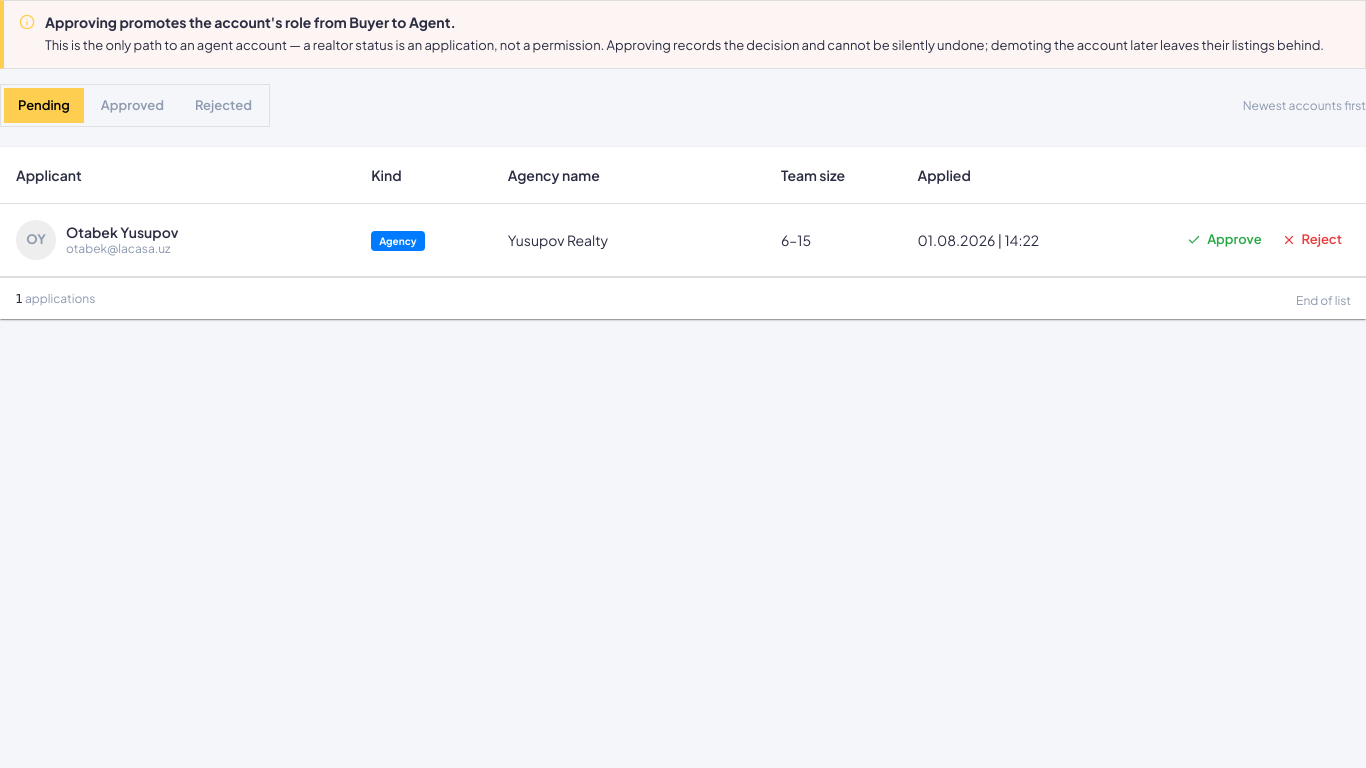
Test: ApplicationsScreen — confirming a decision › shows a failed decision inside the dialog instead of closing it
Click the button with aria-label "Approve Otabek Yusupov".
click(1224, 240)  # box [1179,224,1270,255]
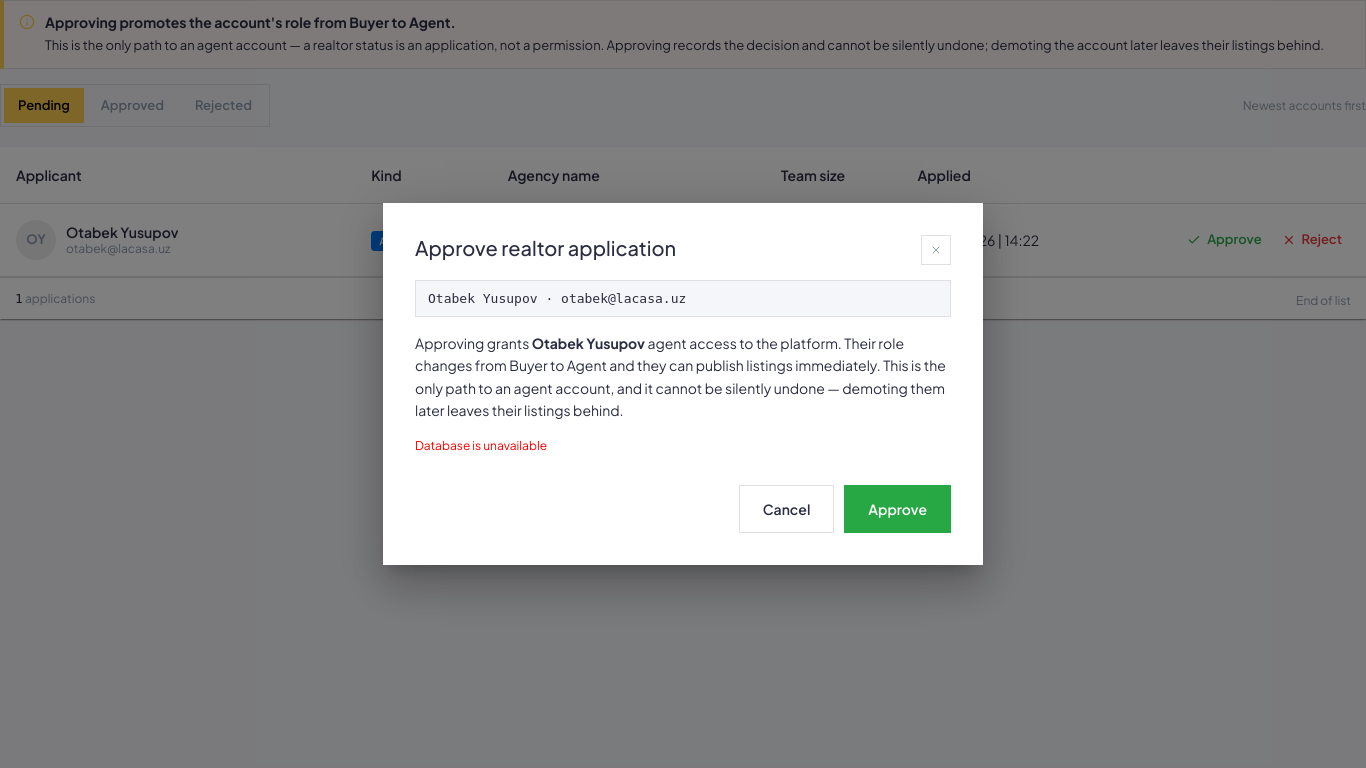
Result: the message reads "Database is unavailable" at [415,438,547,452]
